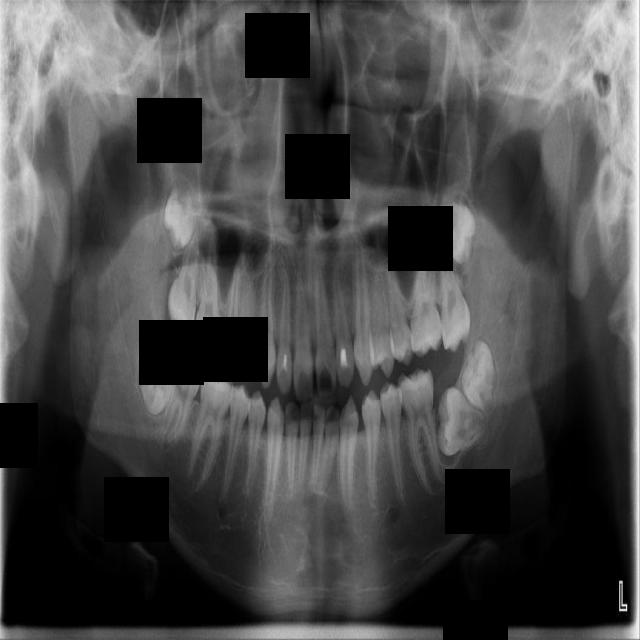3M ESPE Implant: (154, 184, 206, 254)
52: (276, 345, 293, 394), (337, 342, 354, 387)
73: (620, 621, 630, 631)
BioHorizons Implant: (438, 231, 472, 353)
BioLife Implant: (439, 195, 481, 265)
Biomet 3i Implant: (460, 338, 496, 411)
Blue Sky Bio Implant: (436, 385, 486, 457)
Caries: (166, 215, 206, 336)
Implant: (158, 341, 207, 447)
Keystone Dental Implant: (139, 343, 173, 415)
